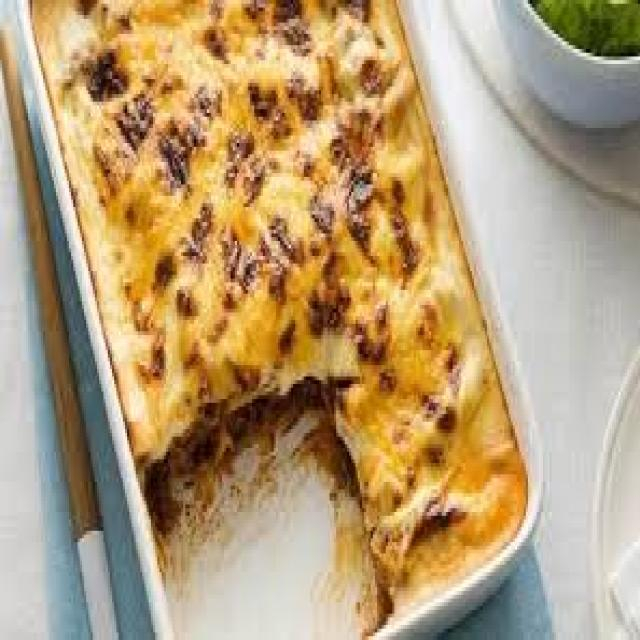Bechamel: (47, 0, 508, 617)
